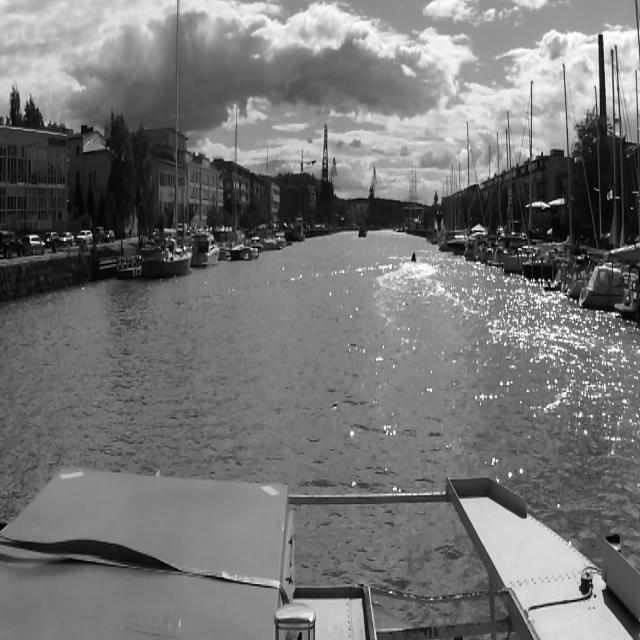ship: (510, 48, 594, 246), (578, 45, 640, 312), (140, 0, 191, 284), (219, 107, 259, 262), (262, 146, 277, 250), (402, 166, 420, 236), (189, 226, 219, 266), (354, 212, 366, 242), (277, 232, 287, 248), (411, 252, 416, 263)
